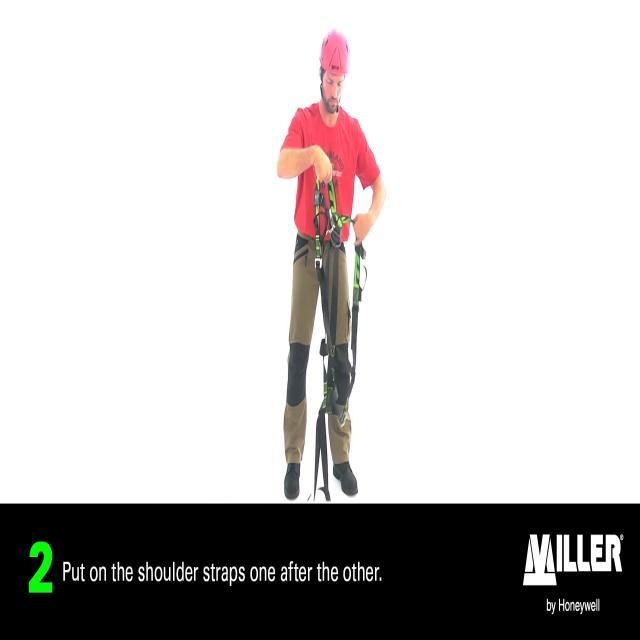Arnes_seguridad: (304, 158, 361, 514)
